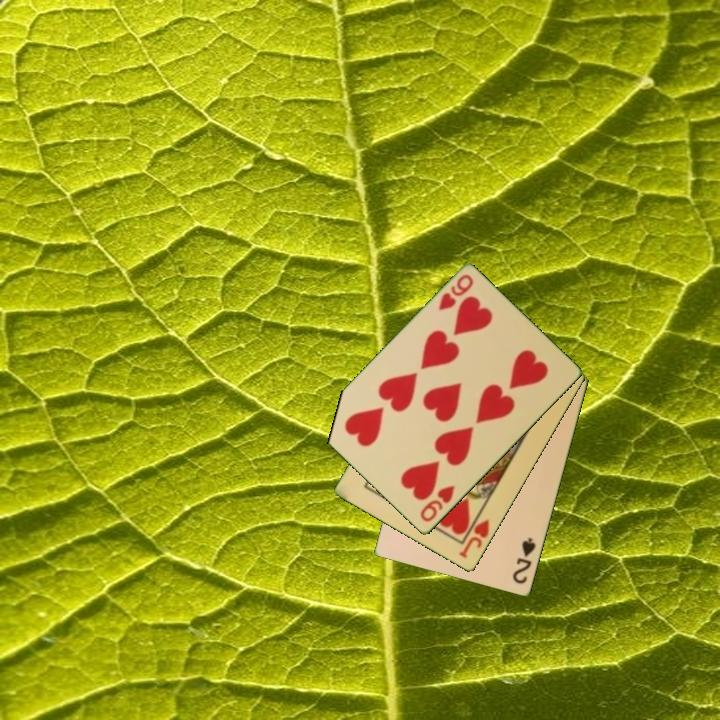2s: (509, 534, 539, 587)
9h: (417, 482, 458, 525), (435, 271, 476, 314)
Jh: (455, 507, 492, 561)
